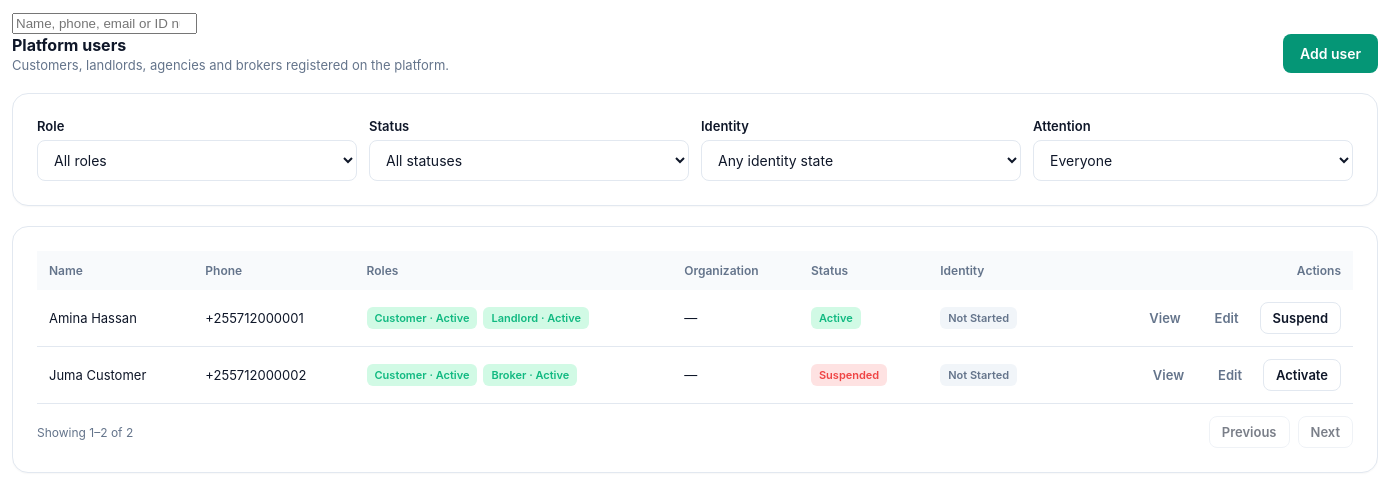
it: UsersPage — platform users › shows an empty state when filters match nothing
This screenshot has width=1390, height=490.
Expected: the text "Amina Hassan" is shown, [37, 290, 193, 346]
Type "zzzzz" into the search field named "Search this page". click: (104, 24)
box: [12, 13, 197, 34]
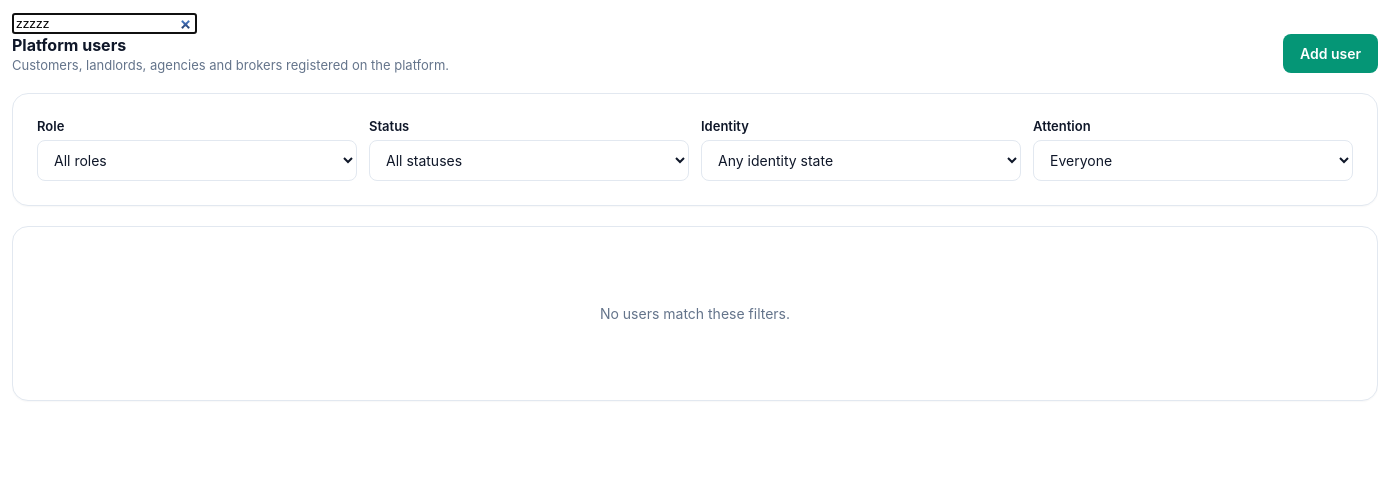
Expected: the text "No users match these filters." is shown, [600, 305, 790, 322]
